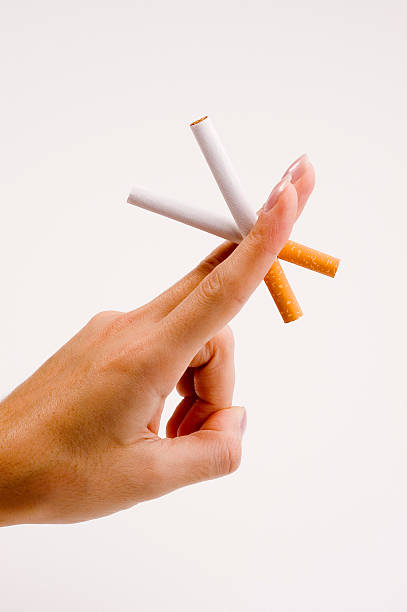cigarette: (187, 111, 305, 324), (124, 183, 342, 279)
